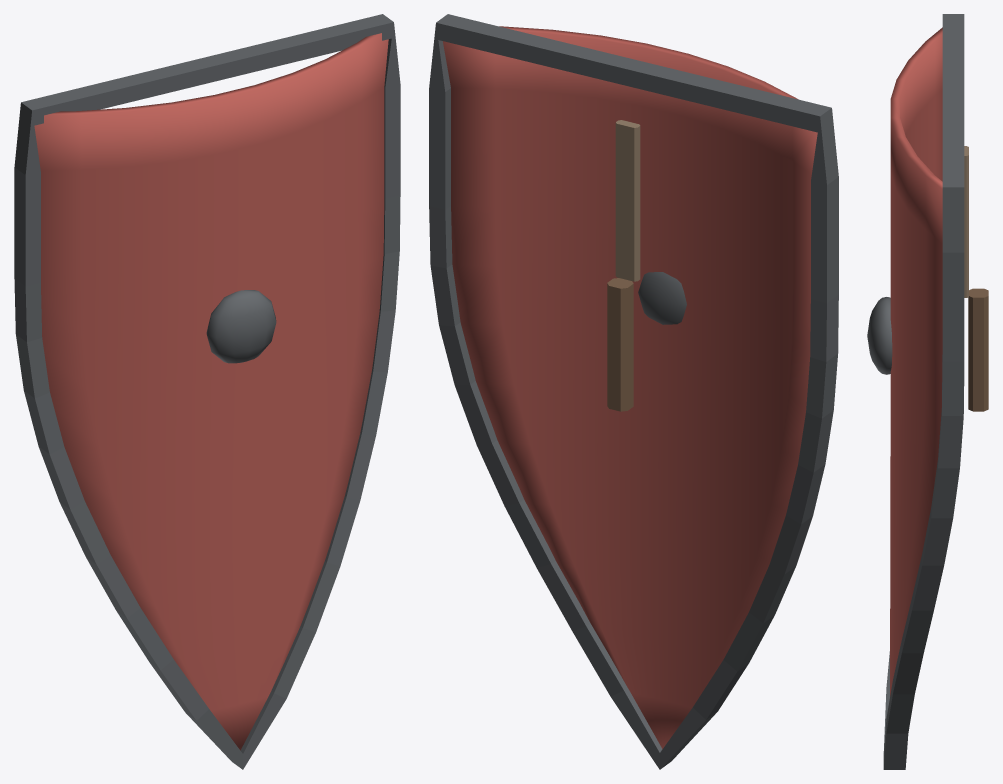
Rendered from shield_kite.glb.
3 renders of one model, left to right at view 1: azimuth 30°, elevation 25°; view 2: azimuth 150°, elevation 25°; view 3: azimuth 270°, elevation 25°, orthographic. The views are drawn at different scales.
Parts seen in each view (by area): view 1: shield_kite; view 2: shield_kite; view 3: shield_kite.
Boxes of the visible parts, x1,y1,x2,y2 form: shield_kite: (14, 14, 400, 769); shield_kite: (429, 14, 838, 769); shield_kite: (867, 14, 988, 769).
Bounding box in the file's own units: 0.542 × 0.9419 × 0.155.
